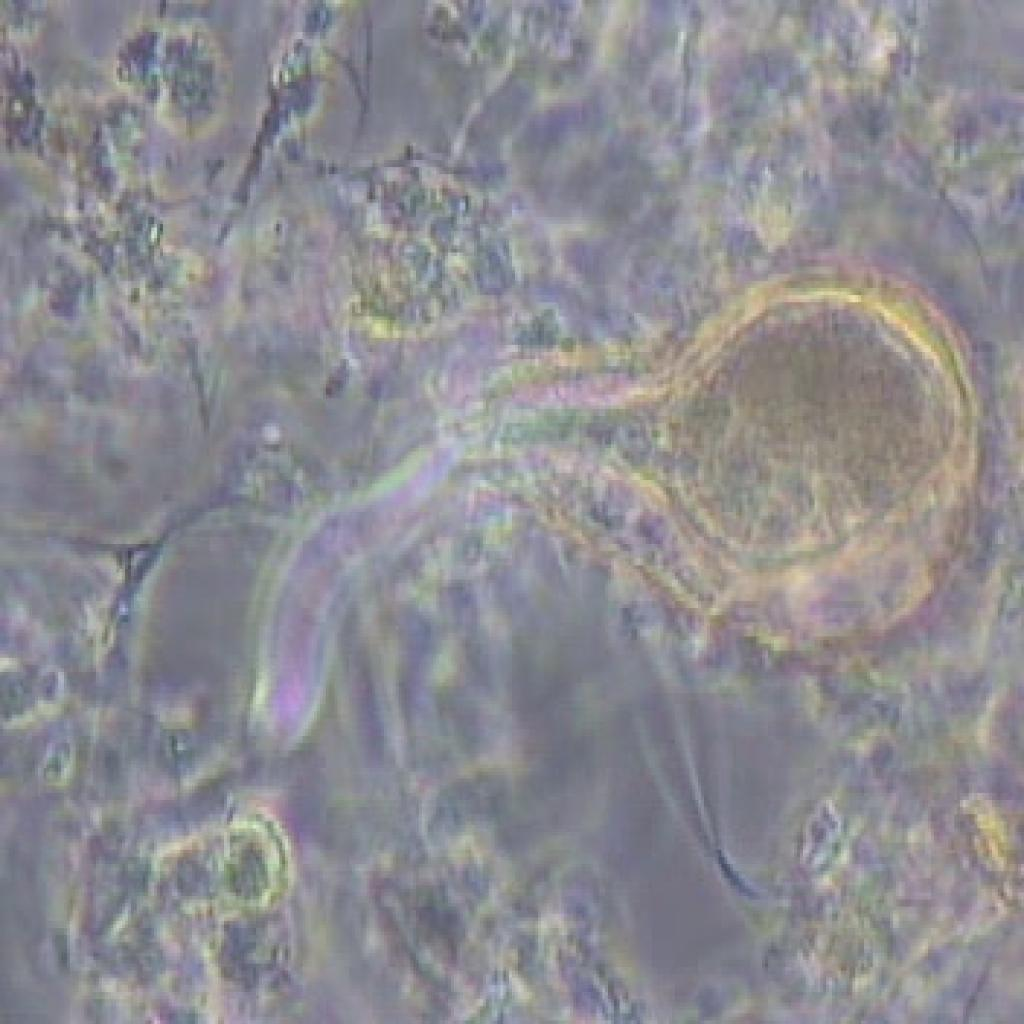Chaetopira: (234, 270, 976, 764)
